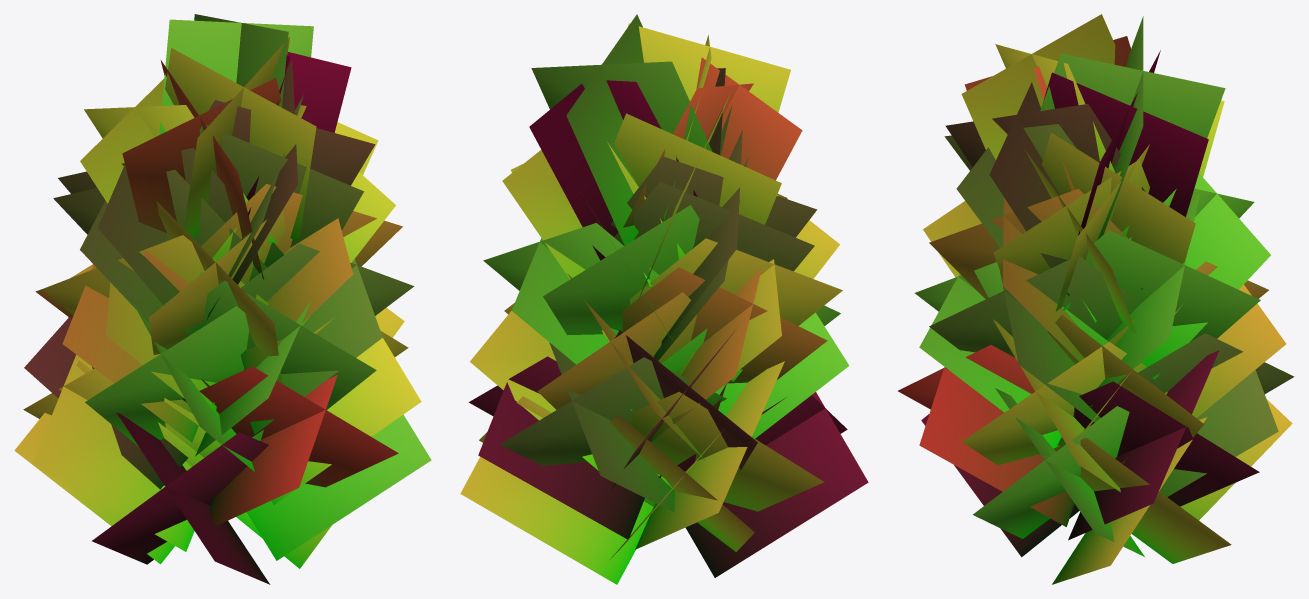
File: Tree_16.fbx
3 renders of one model, left to right at view 1: azimuth 30°, elevation 25°; view 2: azimuth 150°, elevation 25°; view 3: azimuth 270°, elevation 25°, orthographic. The views are drawn at different scales.
Visible parts, largest first — view 1: Tree_16; view 2: Tree_16; view 3: Tree_16.
Boxes of the visible parts, <box> form: Tree_16: <box>14,14,431,584</box>; Tree_16: <box>460,14,868,584</box>; Tree_16: <box>898,14,1294,584</box>.
Size of the model in its own units: 1090 by 1544 by 1051.
